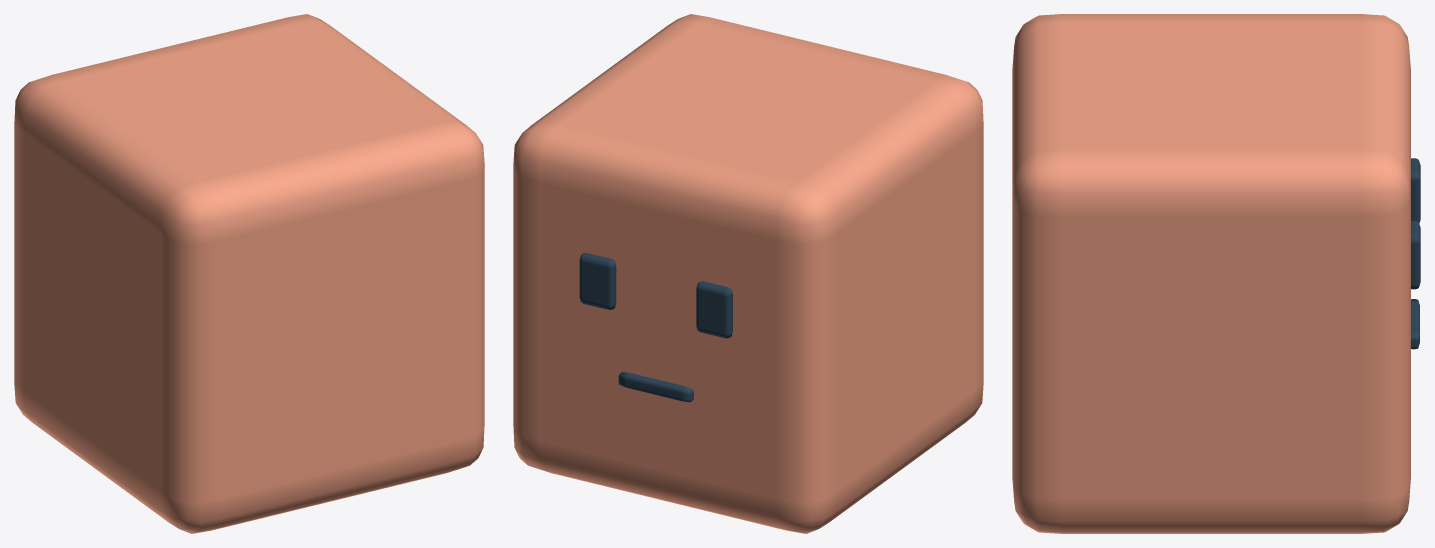
The model's file is StreetEnemy.glb.
3 renders of one model, left to right at view 1: azimuth 30°, elevation 25°; view 2: azimuth 150°, elevation 25°; view 3: azimuth 270°, elevation 25°, orthographic. The views are drawn at different scales.
Visible parts, largest first — view 1: Street Enemy; view 2: Street Enemy; view 3: Street Enemy.
Boxes of the visible parts, x1,y1,x2,y2 form: Street Enemy: (14, 14, 484, 533); Street Enemy: (513, 14, 983, 533); Street Enemy: (1012, 14, 1420, 533).
Bounding box in the file's own units: 0.864 × 0.9 × 0.885.
